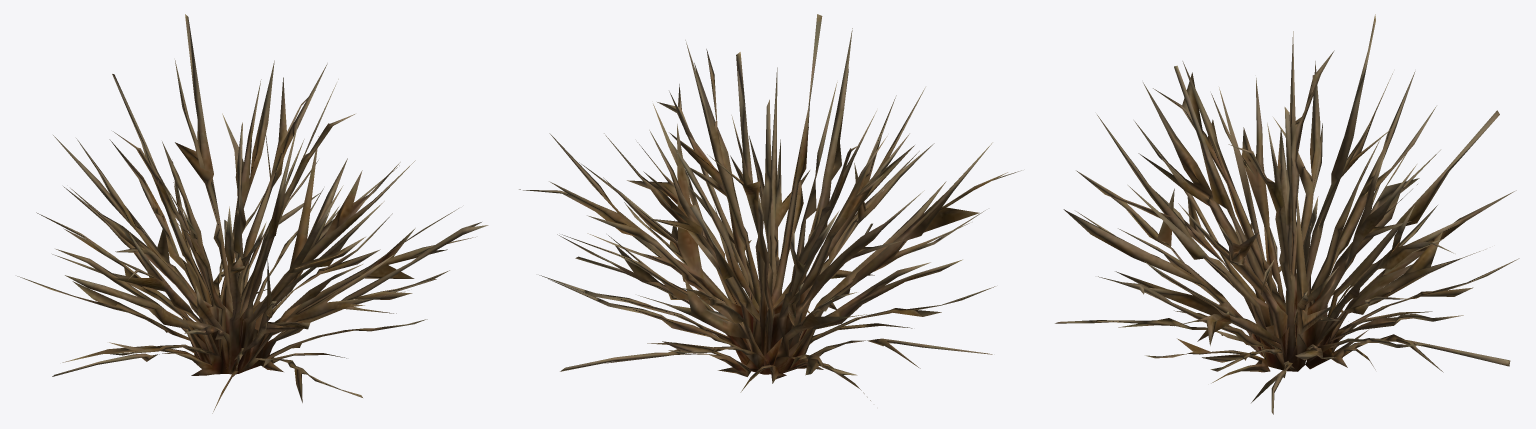
File: scrub.glb
3 views of the same model, side by side, from view 1: azimuth 30°, elevation 25°; view 2: azimuth 150°, elevation 25°; view 3: azimuth 270°, elevation 25° (orthographic). The views are drawn at different scales.
Visible parts, largest first — view 1: tripo_node_8a20fe0e-66d2-4d7b-8a88-9602b3383deb; view 2: tripo_node_8a20fe0e-66d2-4d7b-8a88-9602b3383deb; view 3: tripo_node_8a20fe0e-66d2-4d7b-8a88-9602b3383deb.
Part boxes in pixels (<box>): tripo_node_8a20fe0e-66d2-4d7b-8a88-9602b3383deb: <box>17,14,488,413</box>; tripo_node_8a20fe0e-66d2-4d7b-8a88-9602b3383deb: <box>519,14,1021,400</box>; tripo_node_8a20fe0e-66d2-4d7b-8a88-9602b3383deb: <box>1055,14,1519,414</box>.
Bounding box in the file's own units: 0.998 × 0.7988 × 0.9785.
Materials: 1 (1 with a texture image).
